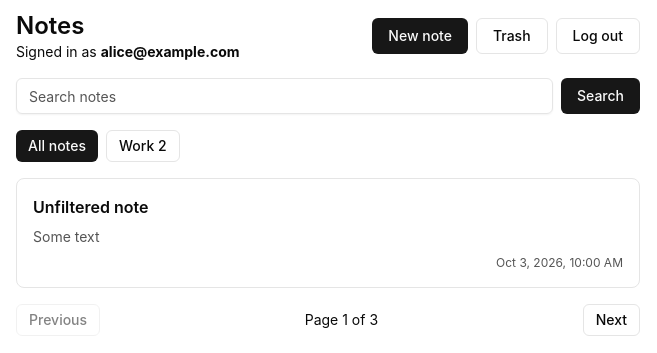
Scenario: tag filter › Choosing a tag filters the list
This screenshot has width=657, height=353.
Step 1. Click the button "Work 2" → (143, 146), box [106, 130, 180, 162]
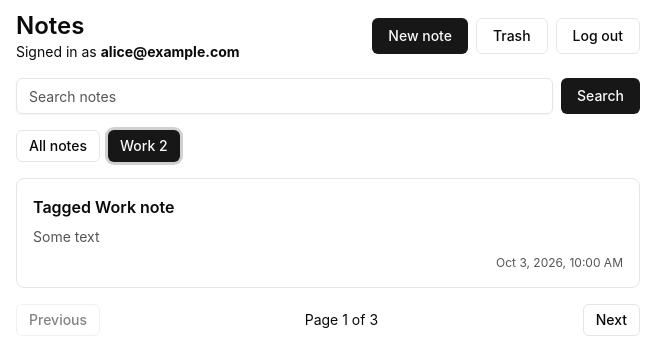
Expected: the link "Tagged Work note" is shown, [33, 197, 175, 217]
